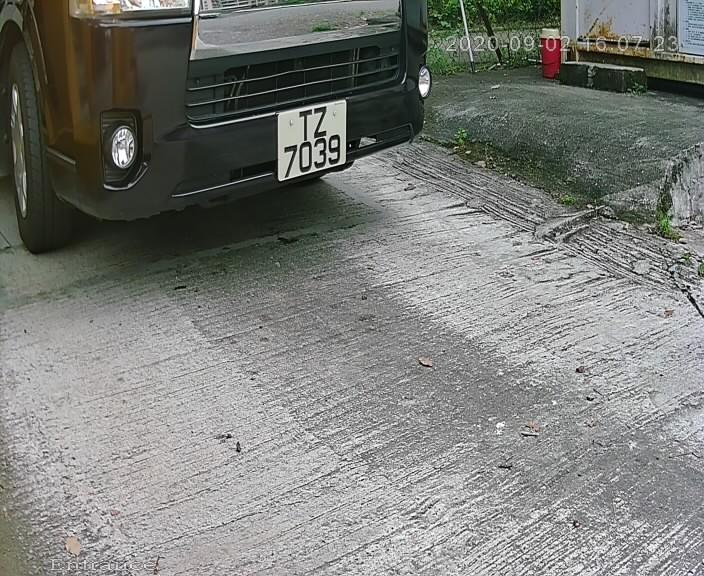Car: (16, 1, 488, 281)
License Plate: (265, 96, 359, 188)
